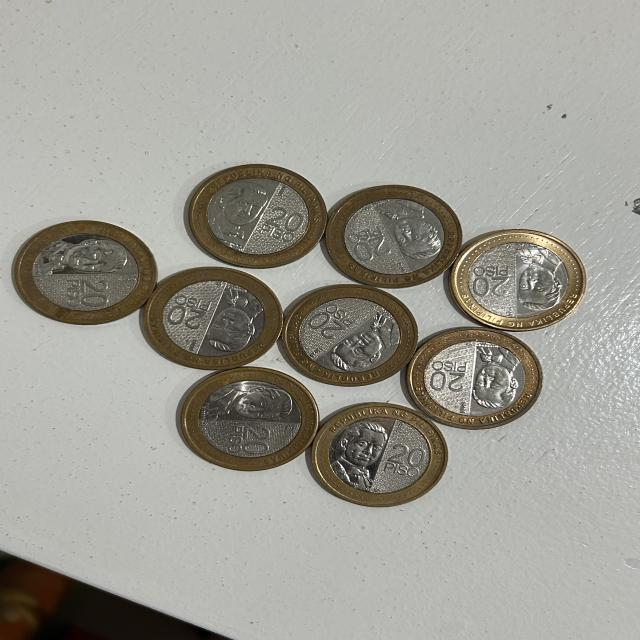20_New_Front: (49, 274, 125, 311), (464, 260, 514, 311), (154, 289, 210, 333), (217, 420, 278, 460), (341, 222, 394, 265), (430, 354, 474, 401), (385, 435, 430, 478), (265, 200, 309, 243), (302, 305, 352, 341)
